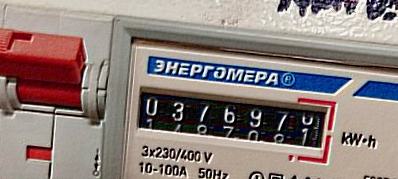0: (143, 94, 159, 117)
1: (298, 126, 310, 147)
3: (170, 100, 186, 123)
6: (221, 101, 238, 125)
7: (195, 100, 212, 125), (273, 109, 290, 133)
9: (247, 105, 263, 128)
screen: (126, 73, 341, 167)
